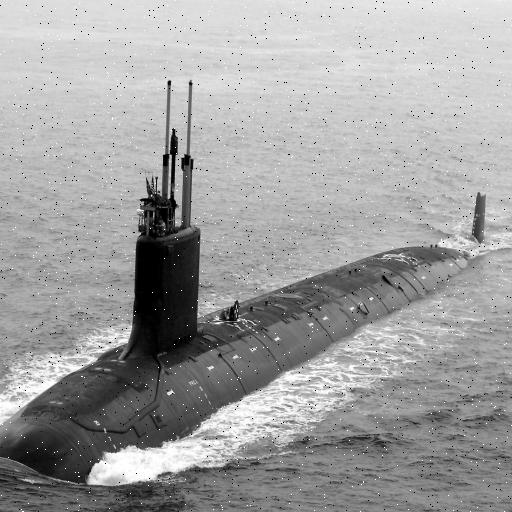submarine: (1, 78, 497, 493)
